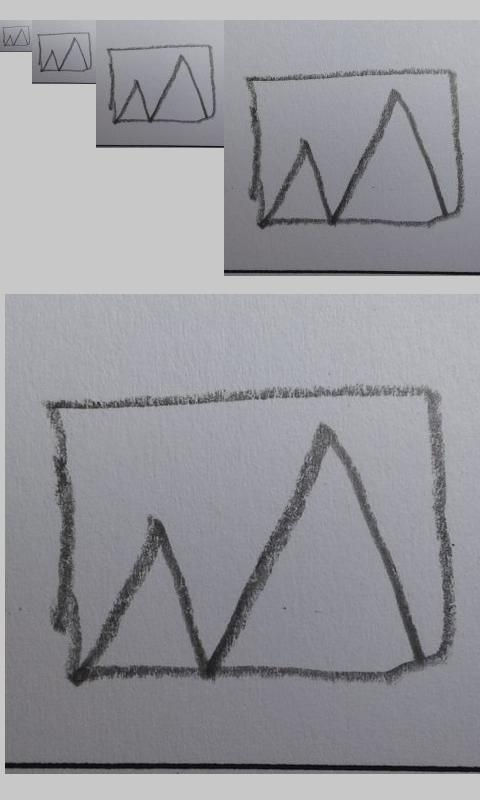image_view: (51, 386, 457, 690), (248, 68, 465, 231), (107, 44, 216, 124), (38, 31, 92, 73), (2, 25, 31, 47)
